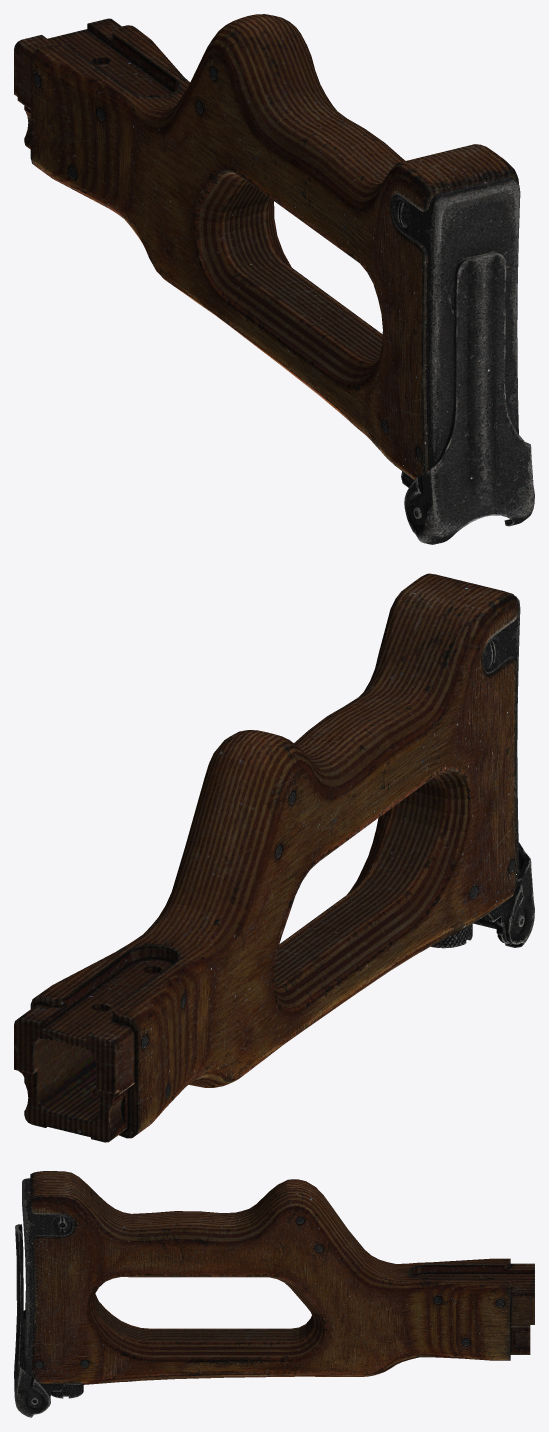
3 views of the same model, one above another, from view 1: azimuth 30°, elevation 25°; view 2: azimuth 150°, elevation 25°; view 3: azimuth 270°, elevation 25° (orthographic). The views are drawn at different scales.
Parts seen in each view (by area): view 1: TW_646371a9f2404ab67905c8e6_PZ_Import; view 2: TW_646371a9f2404ab67905c8e6_PZ_Import; view 3: TW_646371a9f2404ab67905c8e6_PZ_Import.
Boxes of the visible parts, left/top/right/bottom form: TW_646371a9f2404ab67905c8e6_PZ_Import: left=14, top=14, right=534, bottom=544; TW_646371a9f2404ab67905c8e6_PZ_Import: left=14, top=573, right=534, bottom=1142; TW_646371a9f2404ab67905c8e6_PZ_Import: left=14, top=1171, right=534, bottom=1417.
Bounding box in the file's own units: 0.0257 × 0.1746 × 0.082.
1 material, 1 textured.
